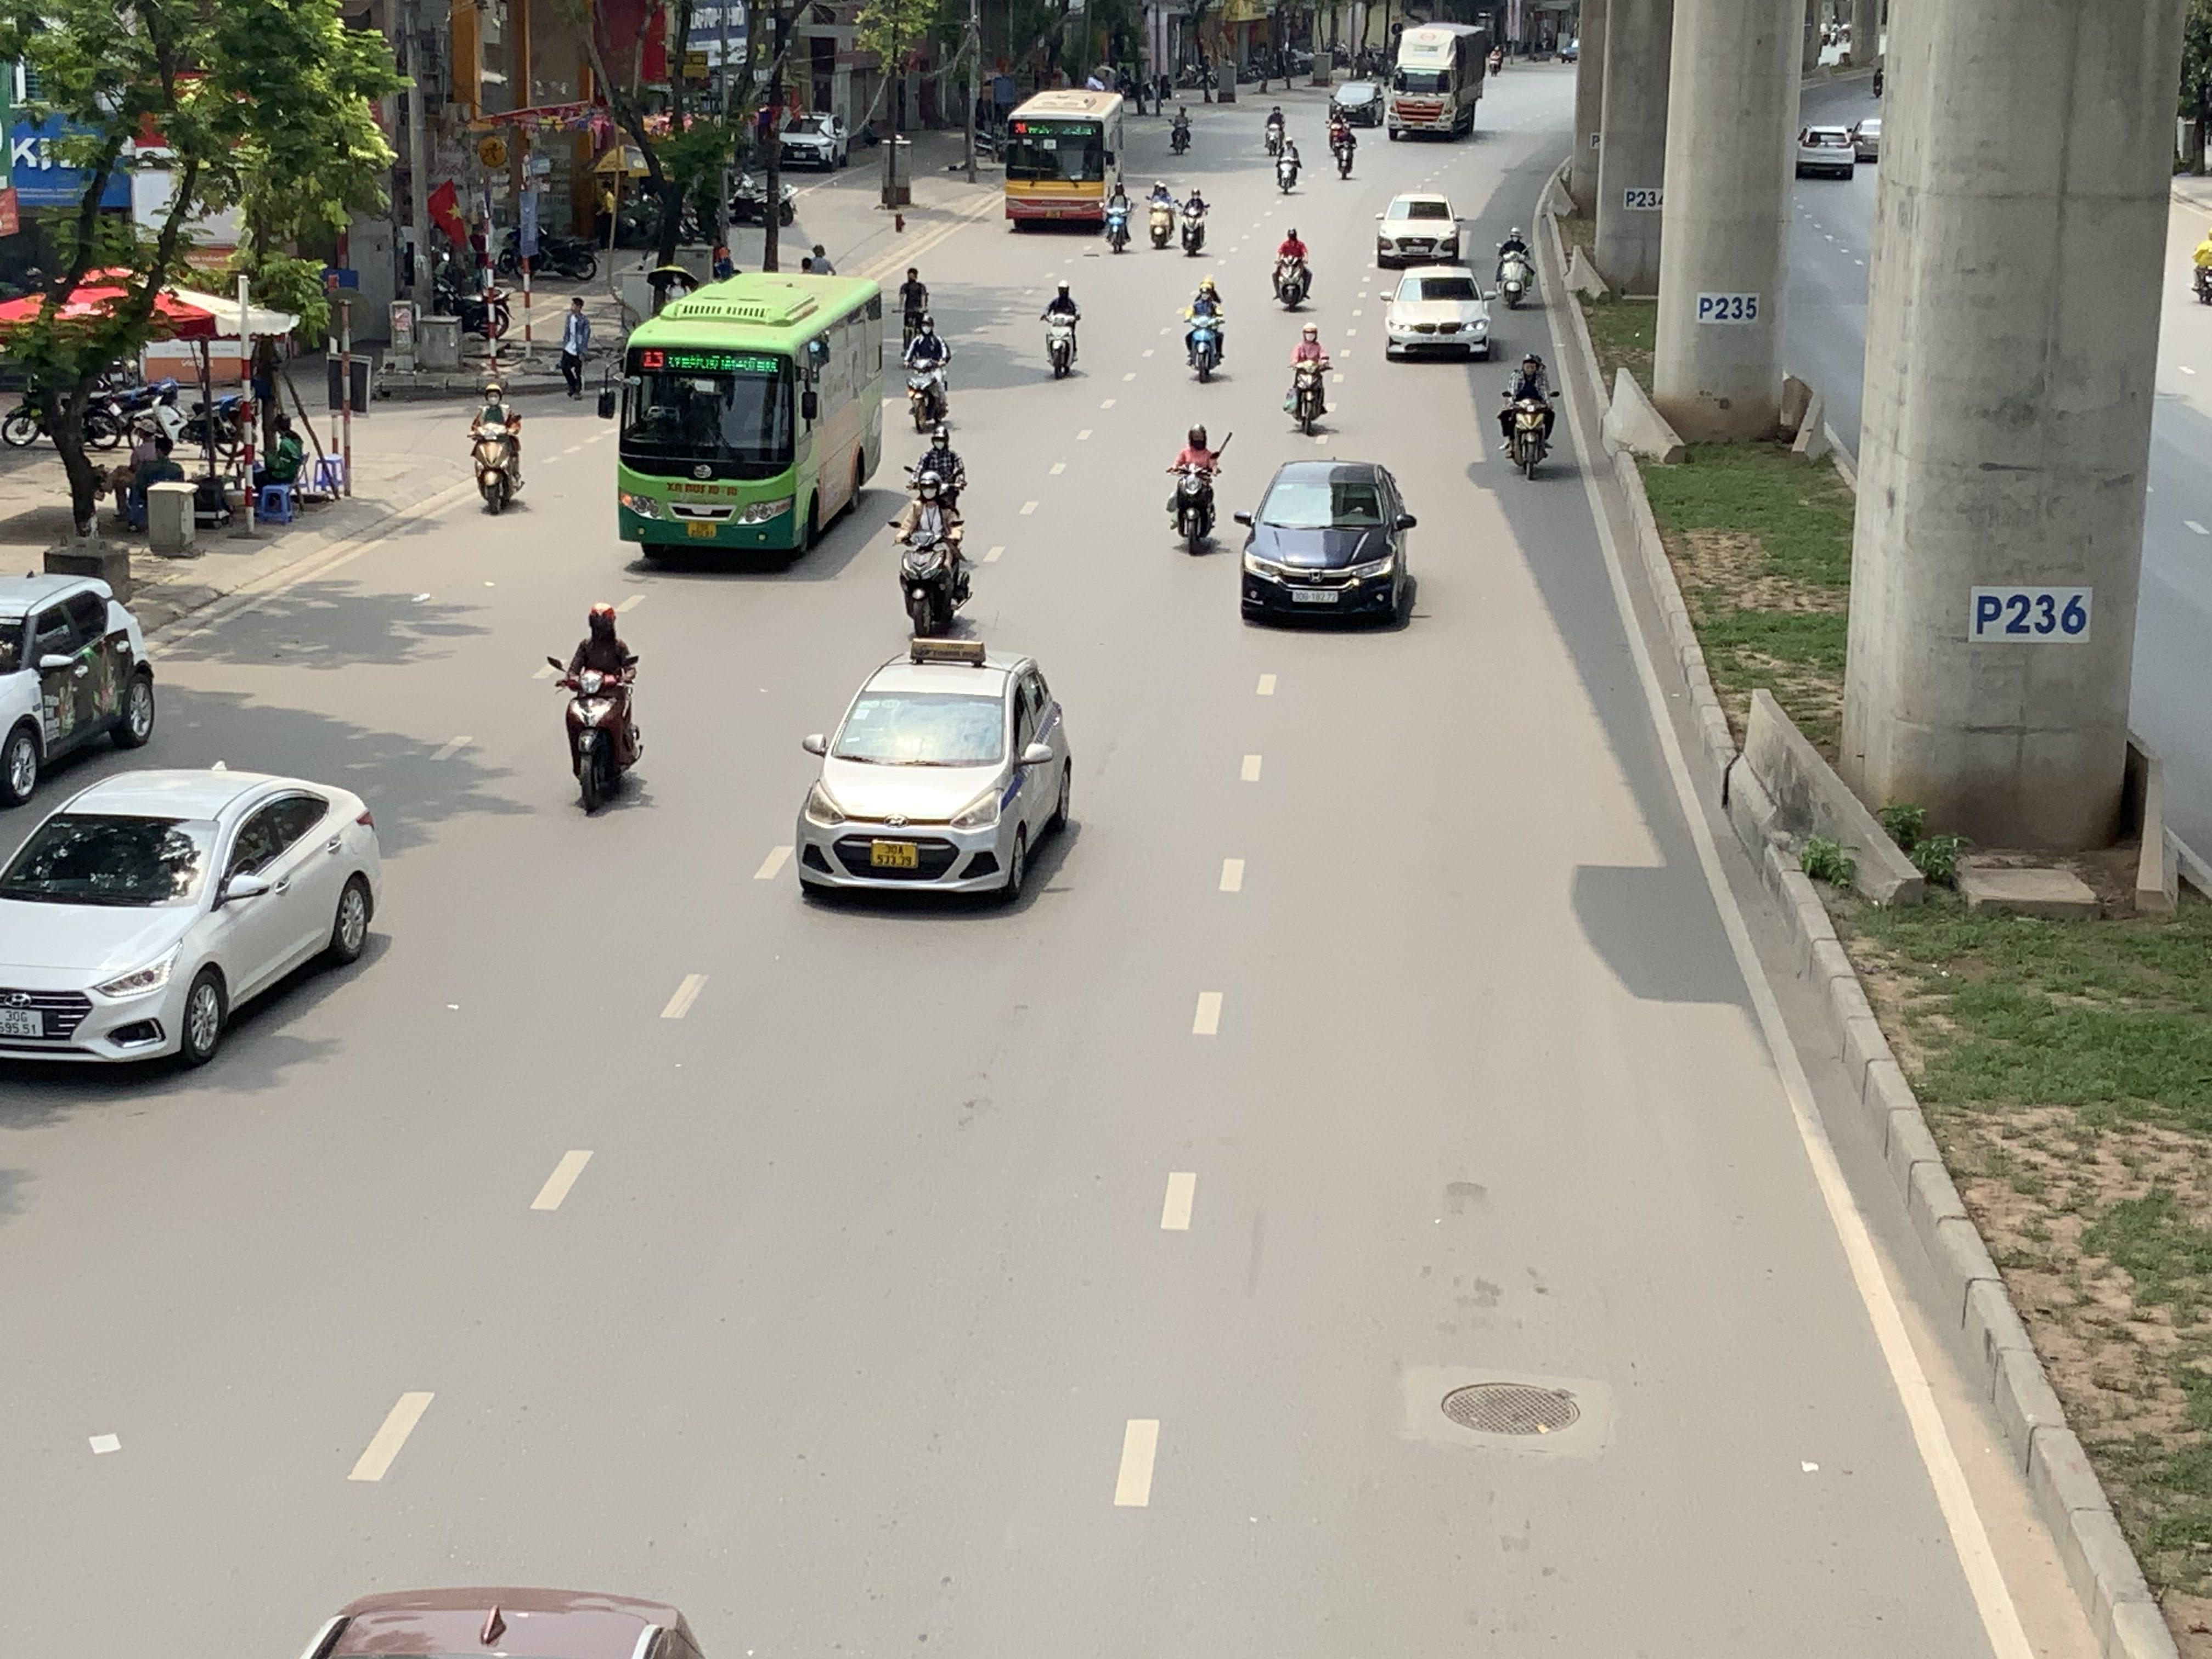BSD: (1292, 589, 1339, 603)
BSV: (0, 1009, 42, 1039), (873, 843, 918, 868), (688, 521, 718, 538)
bus: (610, 270, 887, 563), (1001, 87, 1129, 230)
car: (0, 765, 383, 1073), (796, 650, 1075, 906), (162, 1584, 801, 1659), (0, 570, 157, 809), (1235, 458, 1418, 629), (1383, 267, 1494, 361), (1374, 192, 1467, 267), (777, 112, 850, 171), (1796, 124, 1857, 179), (1327, 77, 1385, 127)
motorbike: (550, 603, 644, 817), (892, 477, 974, 640), (1165, 422, 1226, 556), (469, 385, 526, 514), (1500, 352, 1557, 479), (902, 425, 968, 519), (902, 315, 953, 436), (1284, 324, 1334, 434), (1183, 277, 1228, 382), (1042, 281, 1083, 378), (1271, 225, 1313, 312), (1494, 225, 1536, 310), (897, 263, 934, 343), (1101, 179, 1136, 253), (1146, 176, 1179, 251), (1179, 181, 1211, 256), (1271, 129, 1303, 195), (1329, 112, 1357, 179)
truck: (1388, 21, 1489, 139)
